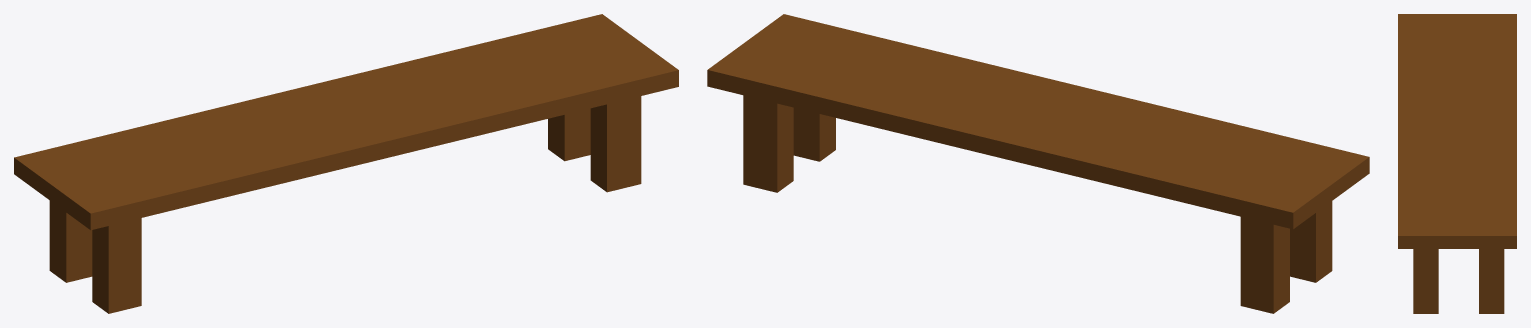
Rendered from bench.fbx.
3 views of the same model, side by side, from view 1: azimuth 30°, elevation 25°; view 2: azimuth 150°, elevation 25°; view 3: azimuth 270°, elevation 25° (orthographic). The views are drawn at different scales.
Visible parts, largest first — view 1: bench; view 2: bench; view 3: bench.
Boxes of the visible parts, left/top/right/bottom form: bench: left=14, top=14, right=678, bottom=313; bench: left=707, top=14, right=1369, bottom=313; bench: left=1398, top=14, right=1516, bottom=313.
Bounding box in the file's own units: 3.69 × 0.6844 × 0.8329.
